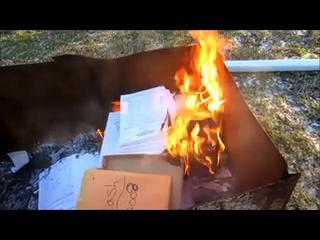Fire: (164, 32, 231, 174)
